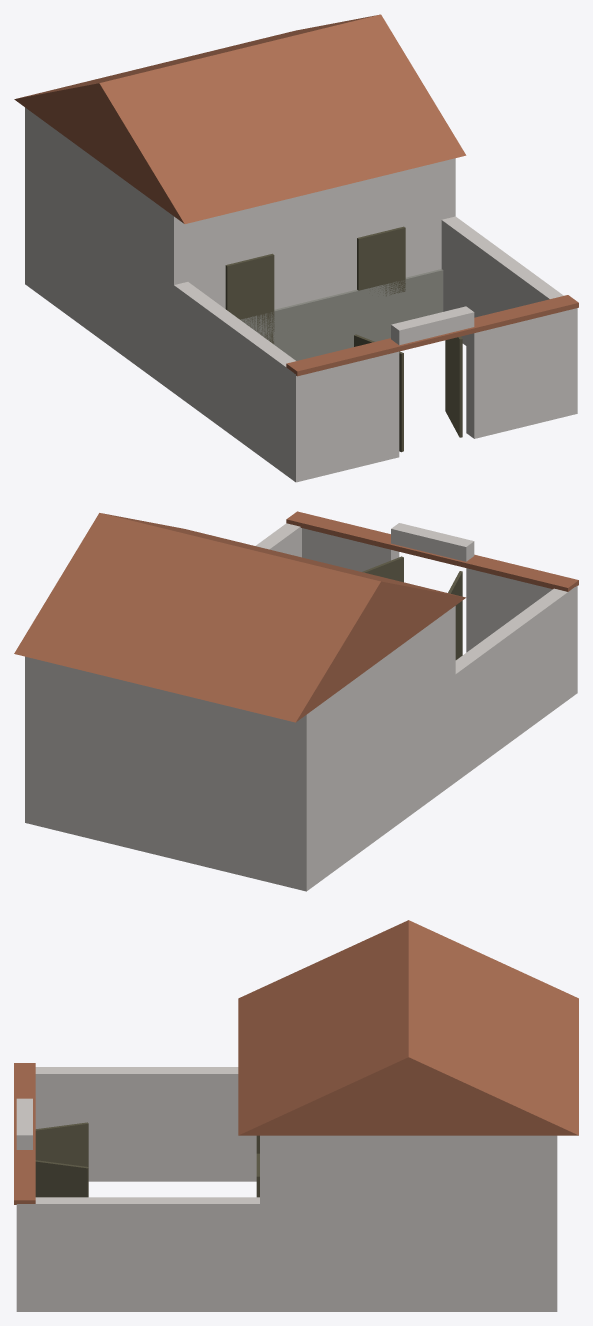
File: SM_CasaPatio_v1_Abierto_LOD1.fbx
3 renders of one model, top to bottom at view 1: azimuth 30°, elevation 25°; view 2: azimuth 150°, elevation 25°; view 3: azimuth 270°, elevation 25°, orthographic.
Parts seen in each view (by area): view 1: SM_pueblo_valenciano_v16_LOD1; view 2: SM_pueblo_valenciano_v16_LOD1; view 3: SM_pueblo_valenciano_v16_LOD1.
Part boxes in pixels (left/top/right/bottom): SM_pueblo_valenciano_v16_LOD1: left=14, top=14, right=578, bottom=482; SM_pueblo_valenciano_v16_LOD1: left=14, top=511, right=578, bottom=891; SM_pueblo_valenciano_v16_LOD1: left=14, top=920, right=578, bottom=1311.
Size of the model in its own units: 6 by 5.2 by 10.45.
